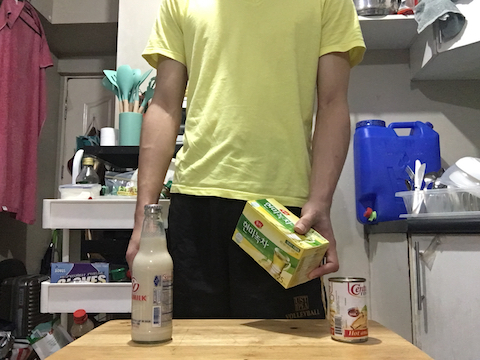bottle: (128, 201, 178, 346)
box: (229, 191, 338, 290)
can: (327, 274, 371, 347)
grab: (298, 203, 344, 286)
